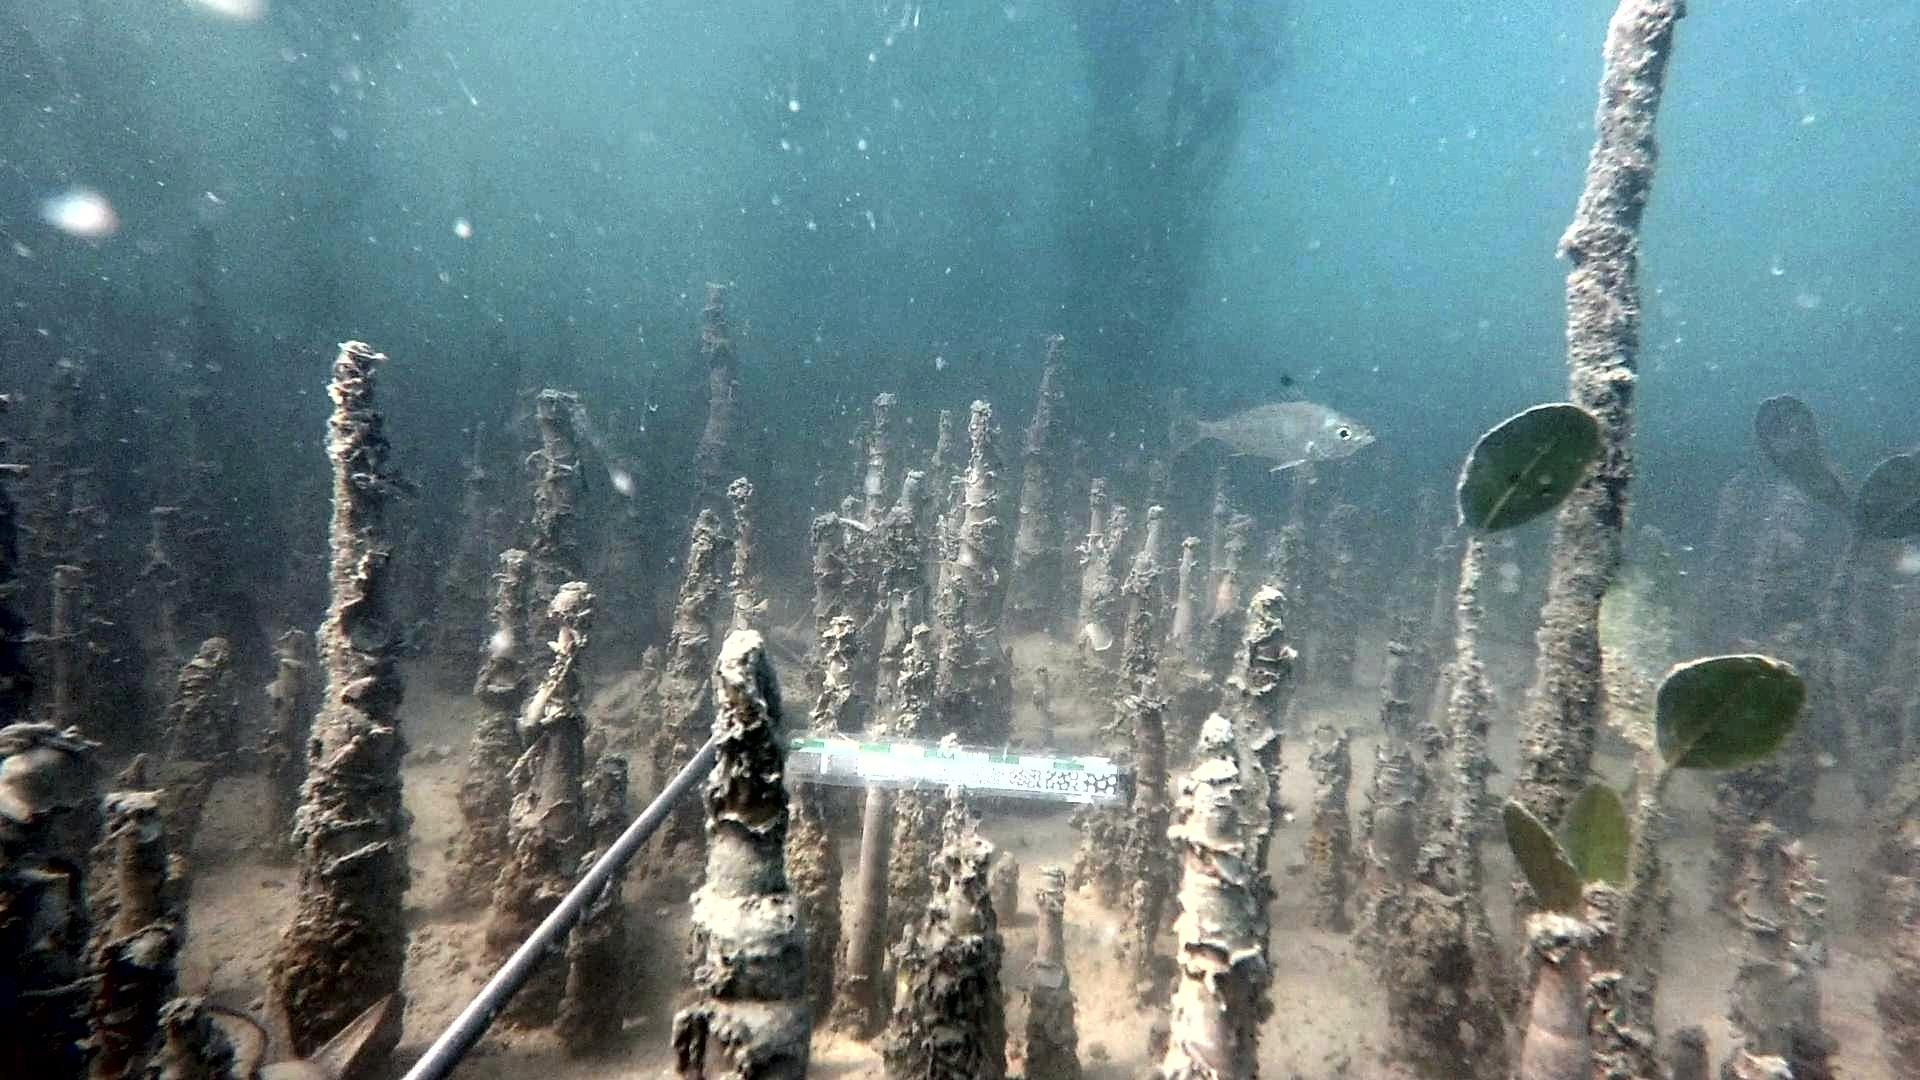gerres: (1147, 372, 1379, 476)
